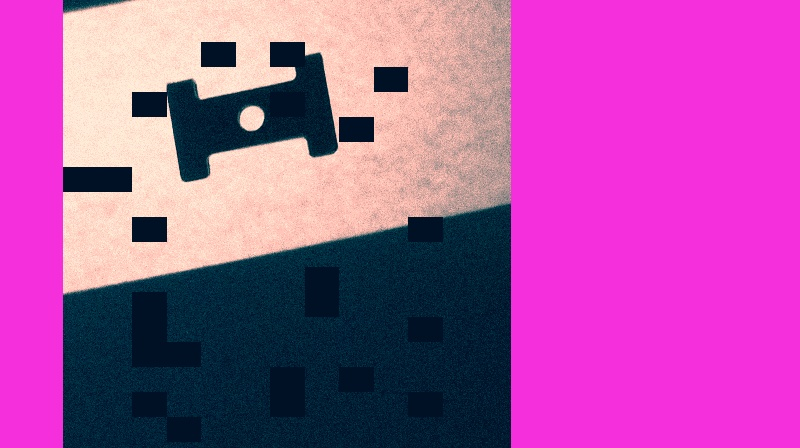O002: (162, 46, 339, 185)
